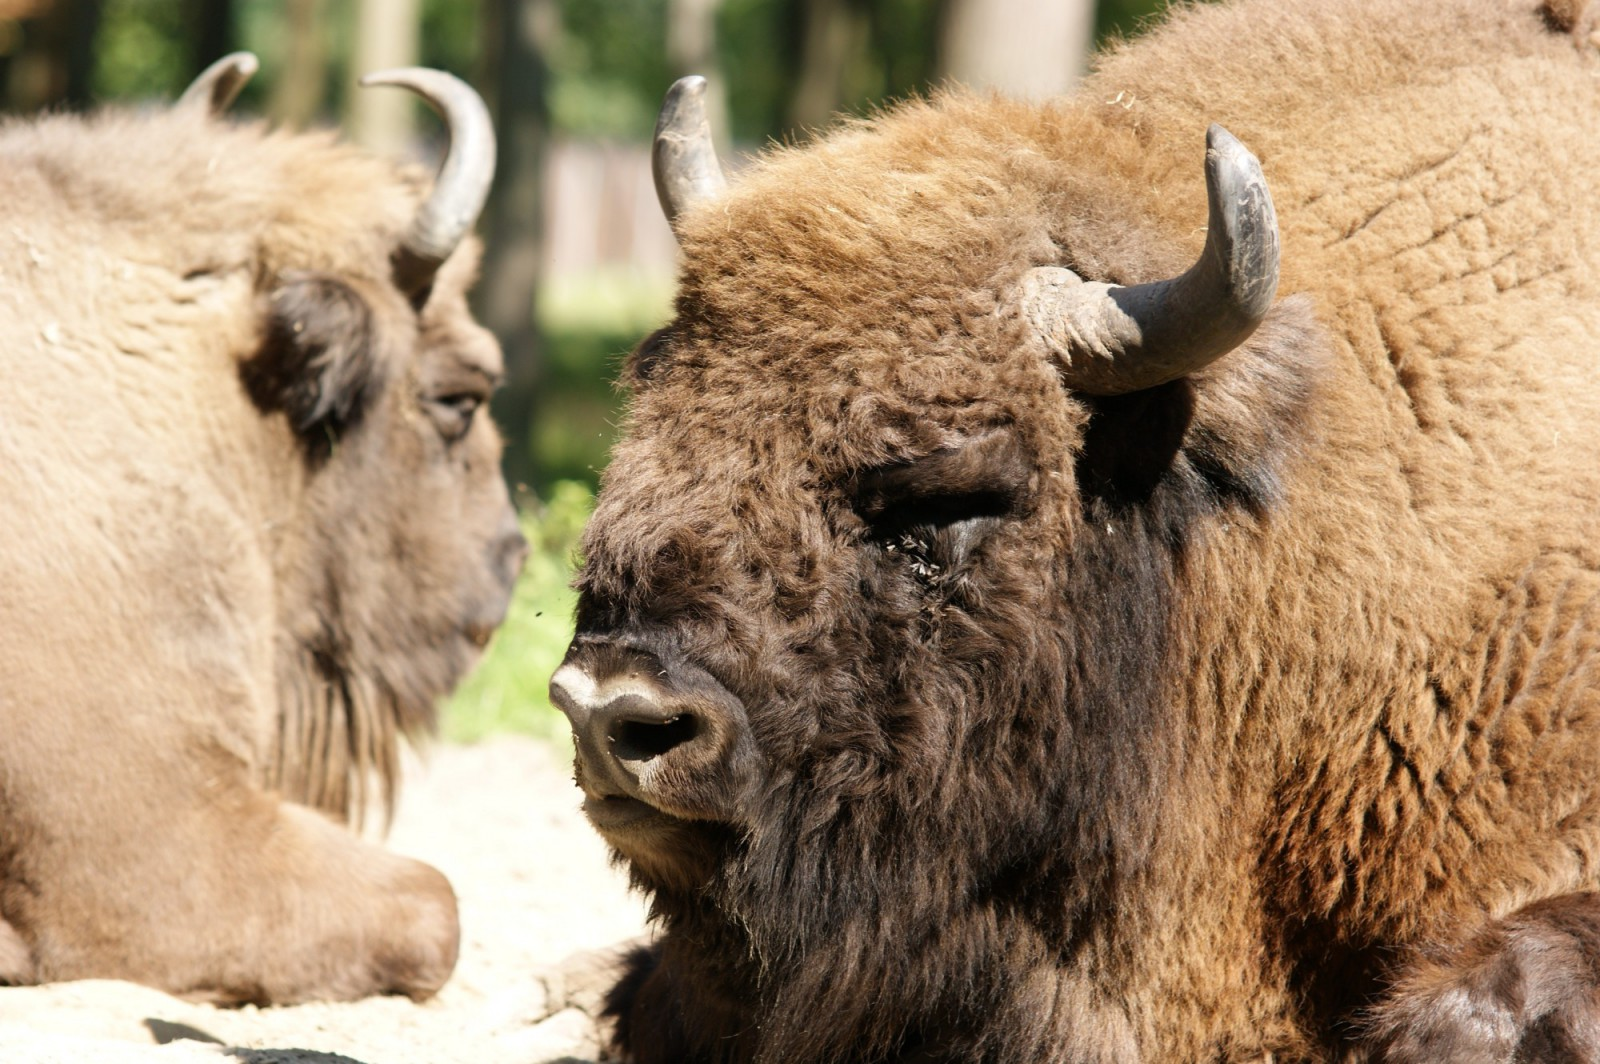zubr: (555, 24, 1600, 1007), (23, 12, 555, 1064)
